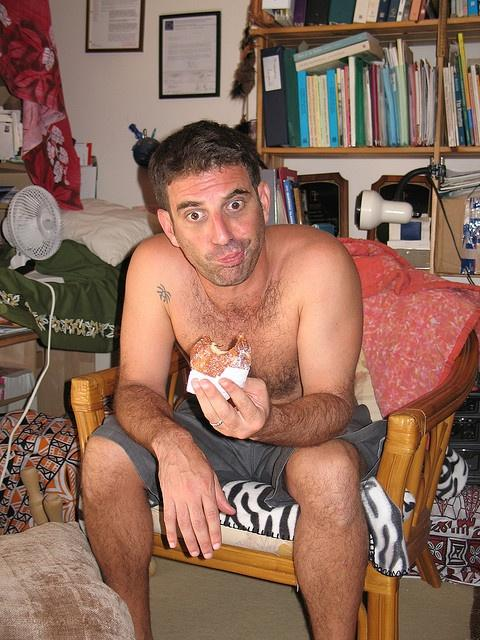Rak: (255, 16, 479, 275)
